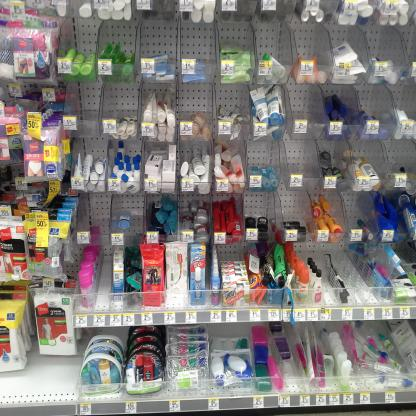Void: (337, 249, 366, 307), (184, 24, 216, 64), (296, 26, 326, 58), (146, 22, 174, 56), (72, 92, 96, 124), (373, 32, 398, 60), (111, 91, 134, 121), (79, 198, 109, 221), (265, 28, 285, 60), (97, 251, 108, 309), (183, 88, 209, 112), (292, 88, 316, 113), (252, 147, 278, 169), (365, 87, 385, 112), (220, 90, 243, 109), (292, 142, 307, 166), (116, 197, 140, 210)
